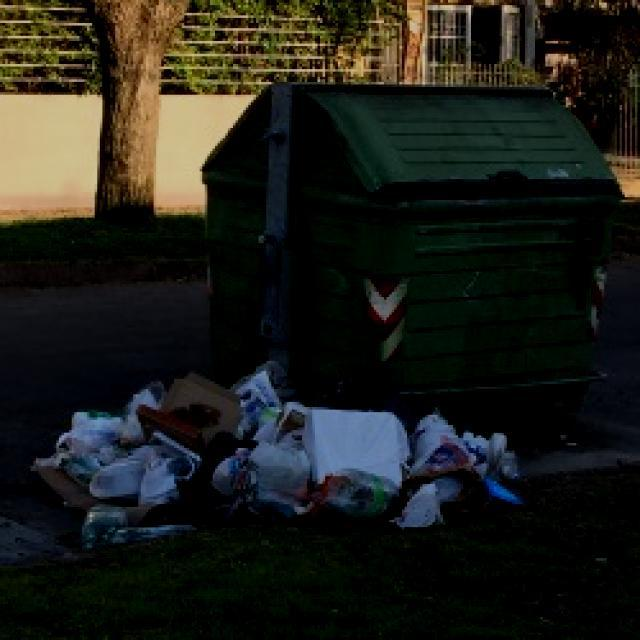high trash: (32, 364, 520, 548)
